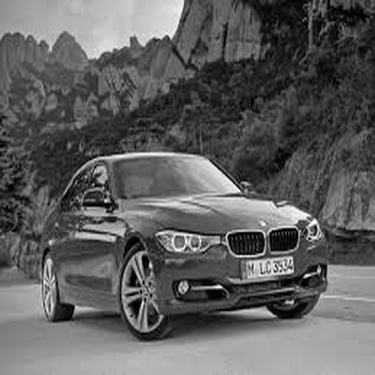car: (32, 142, 336, 336)
